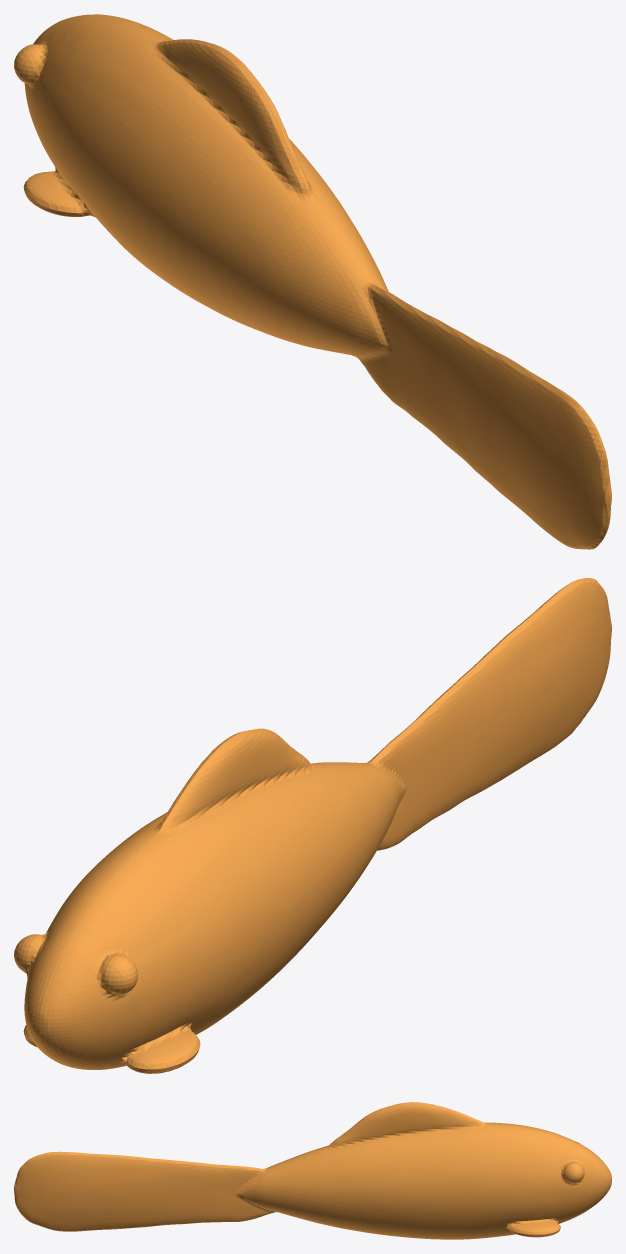
The model's file is goldfish_v3.glb.
The picture shows the model from 3 angles, top to bottom: view 1: azimuth 30°, elevation 25°; view 2: azimuth 150°, elevation 25°; view 3: azimuth 270°, elevation 25°; orthographic projection. The views are drawn at different scales.
Visible parts, largest first — view 1: world; view 2: world; view 3: world.
Boxes of the visible parts, x1,y1,x2,y2 form: world: (14, 14, 611, 549); world: (14, 578, 611, 1073); world: (14, 1102, 611, 1239).
Size of the model in its own units: 0.3194 by 0.4933 by 1.99.
